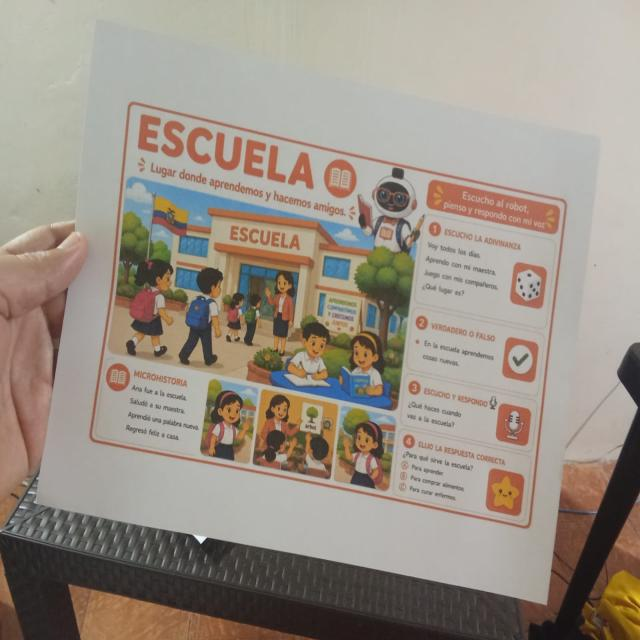escuela: (86, 95, 573, 536)
